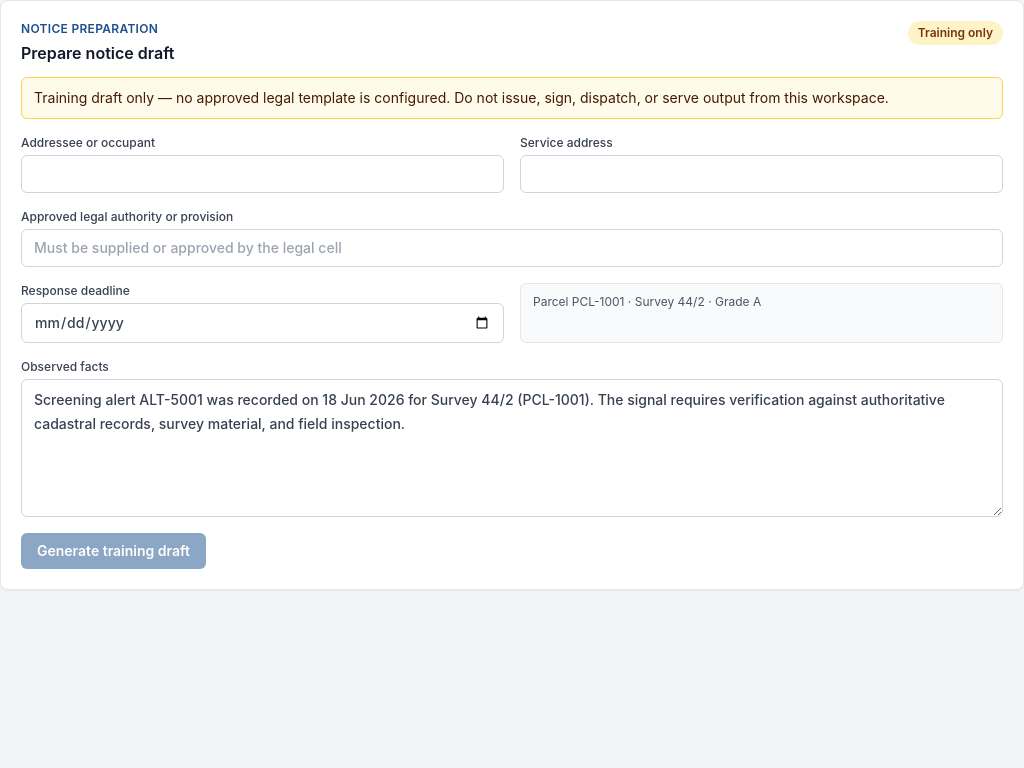
NoticeDraftWorkspace › generates a visibly non-serviceable draft from the reviewed fields
Type "Occupant at the recorded site" into the field labelled "Addressee or occupant" at (262, 174), box [21,155,504,193]
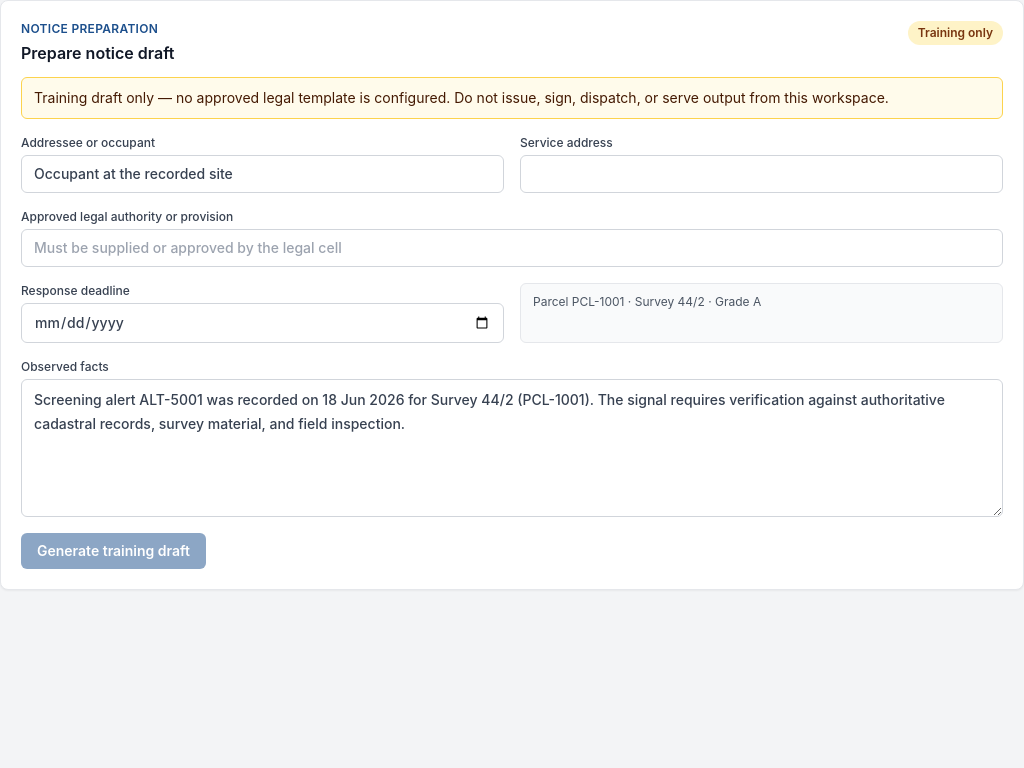
Type "Survey 44/2, Haridwar" into the field labelled "Service address" at (762, 174), box [520,155,1003,193]
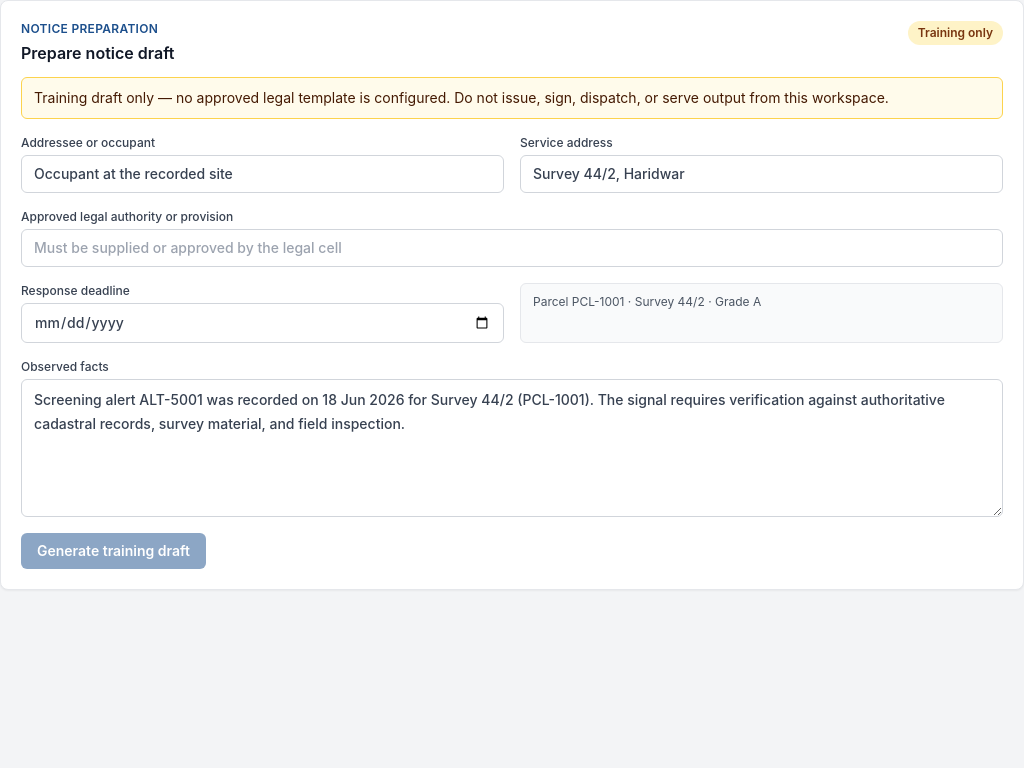
Type "Approved provision supplied by legal cell" into the field labelled "Approved legal authority or provision" at (512, 248), box [21,229,1003,267]
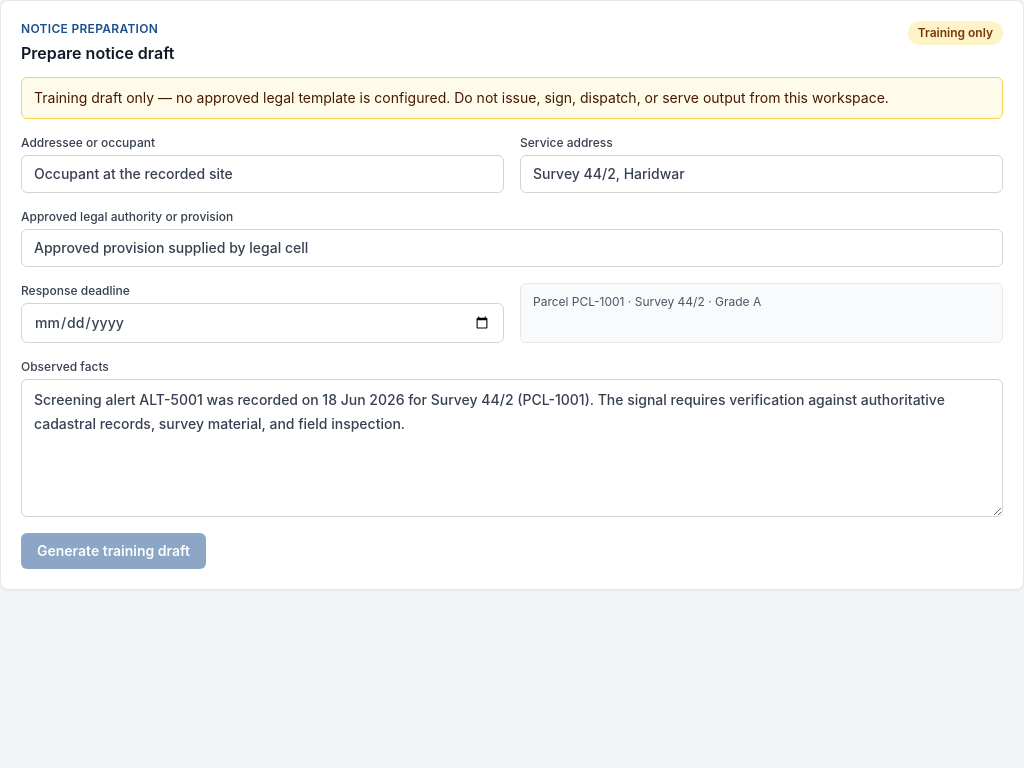
Type "2026-08-15" into the date field labelled "Response deadline" at (262, 323), box [21,303,504,343]
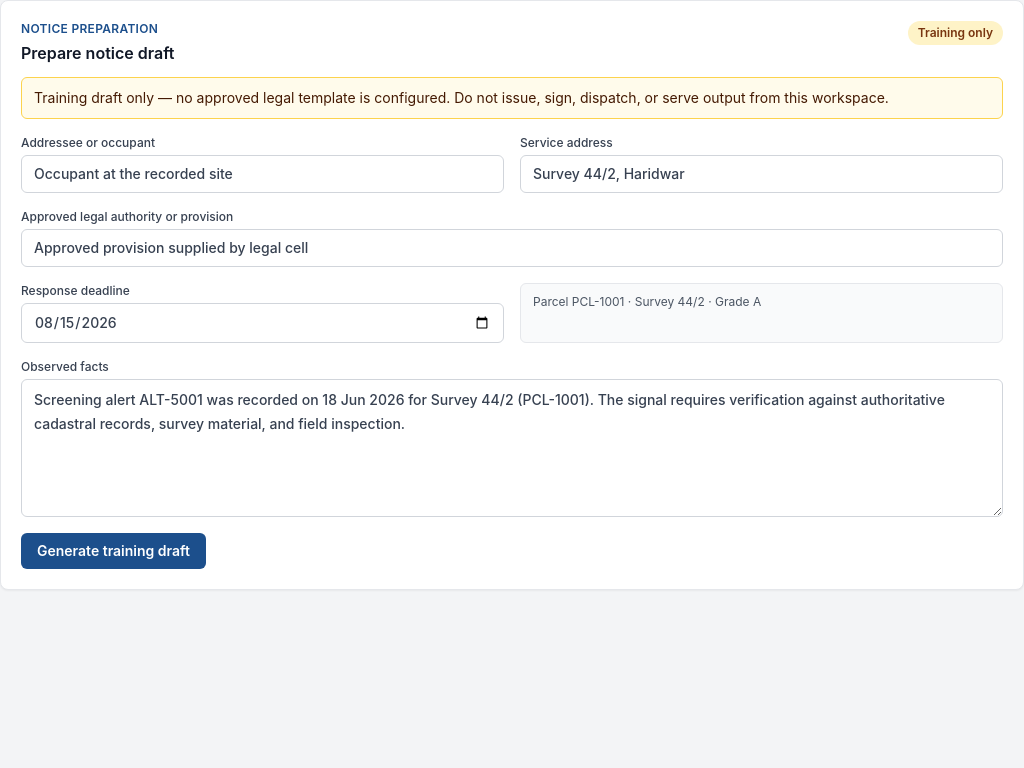
Click the button "Generate training draft" at (113, 551), box [21,533,206,569]
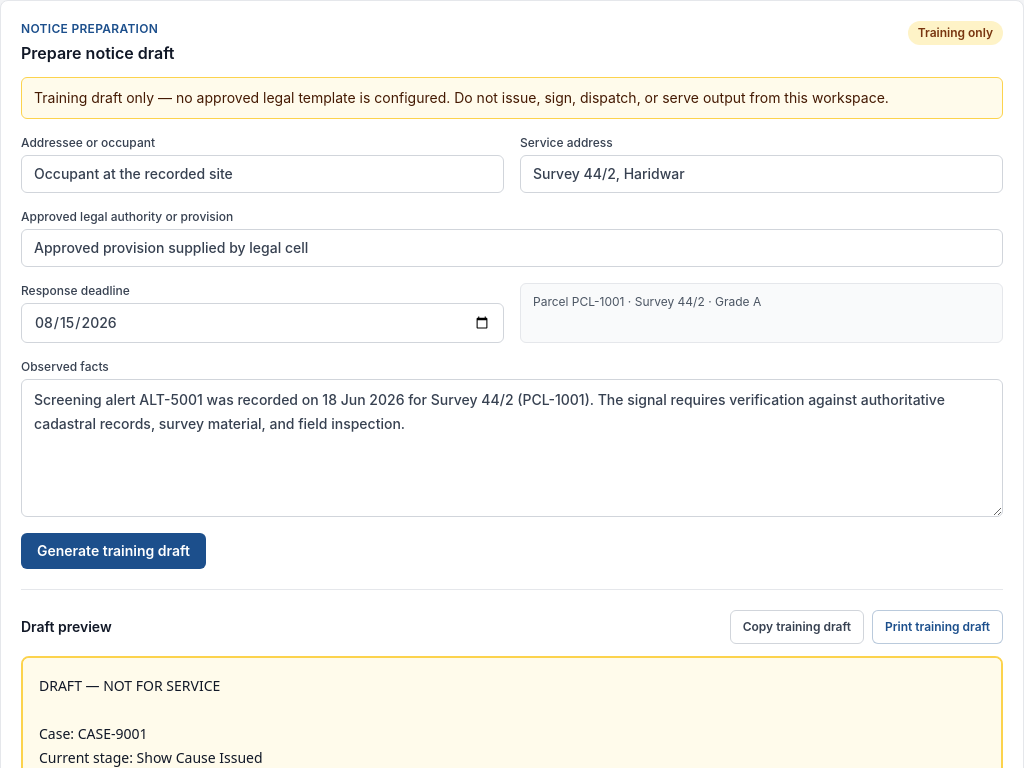
Result: the button "Copy training draft" is shown at [730,610,864,644]
Result: the button "Print training draft" is shown at [872,610,1003,644]
